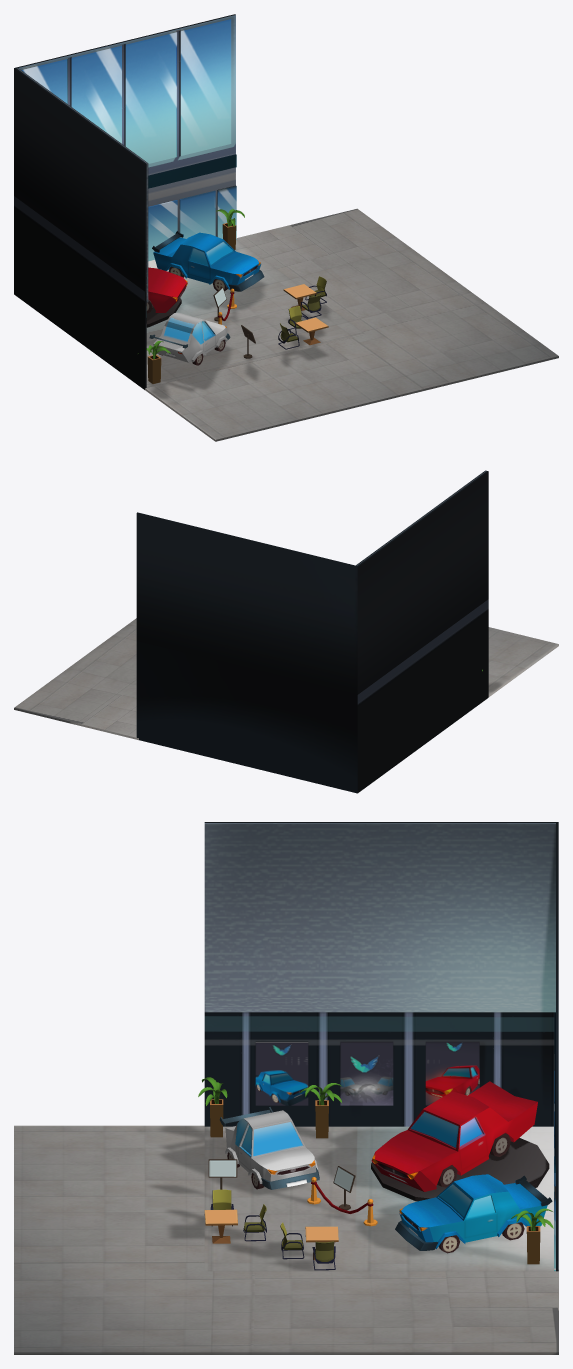
File: Tx_Interior_Bus_Dealer.fbx
3 renders of one model, top to bottom at view 1: azimuth 30°, elevation 25°; view 2: azimuth 150°, elevation 25°; view 3: azimuth 270°, elevation 25°, orthographic. The views are drawn at different scales.
Visible parts, largest first — view 1: Room, Lux_Car_T7, Lux_Car_T3, Lux_Car_T5, polySurface16547; view 2: Room; view 3: Room, Lux_Car_T5, Lux_Car_T7, Lux_Car_T3, polySurface16583, polySurface16543, polySurface16547, polySurface16569.
Part boxes in pixels (x1=…): Room: x1=14, y1=14, x2=558, y2=441; Lux_Car_T7: x1=152, y1=231, x2=264, y2=291; Lux_Car_T3: x1=149, y1=312, x2=230, y2=365; Lux_Car_T5: x1=146, y1=267, x2=187, y2=313; polySurface16547: x1=138, y1=341, x2=170, y2=383; Room: x1=14, y1=470, x2=558, y2=793; Room: x1=14, y1=822, x2=558, y2=1354; Lux_Car_T5: x1=371, y1=1081, x2=537, y2=1191; Lux_Car_T7: x1=395, y1=1174, x2=552, y2=1253; Lux_Car_T3: x1=219, y1=1107, x2=319, y2=1189; polySurface16583: x1=511, y1=1208, x2=553, y2=1264; polySurface16543: x1=299, y1=1083, x2=341, y2=1138; polySurface16547: x1=198, y1=1077, x2=227, y2=1137; polySurface16569: x1=204, y1=1209, x2=237, y2=1243.
Bounding box in the file's own units: 82.57 × 51.96 × 83.68.
3 materials, 3 textured.
